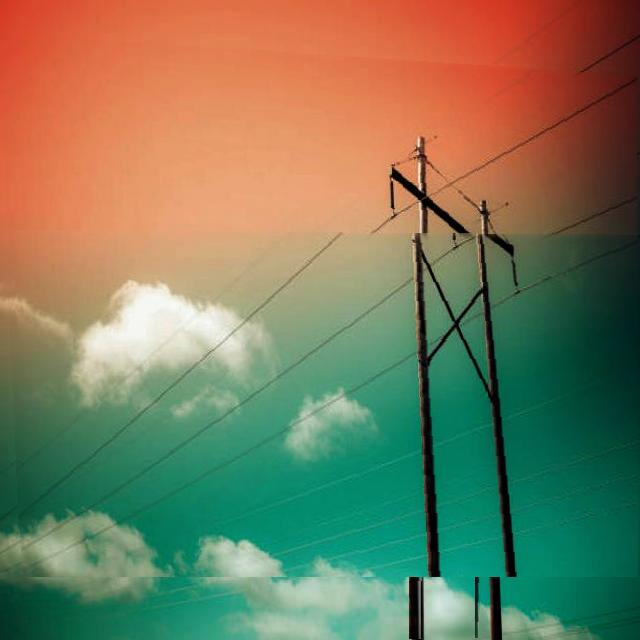crossarm: (383, 139, 512, 277)
pole: (409, 109, 423, 639), (475, 170, 484, 639)
wire: (14, 67, 637, 526), (18, 234, 638, 577)
